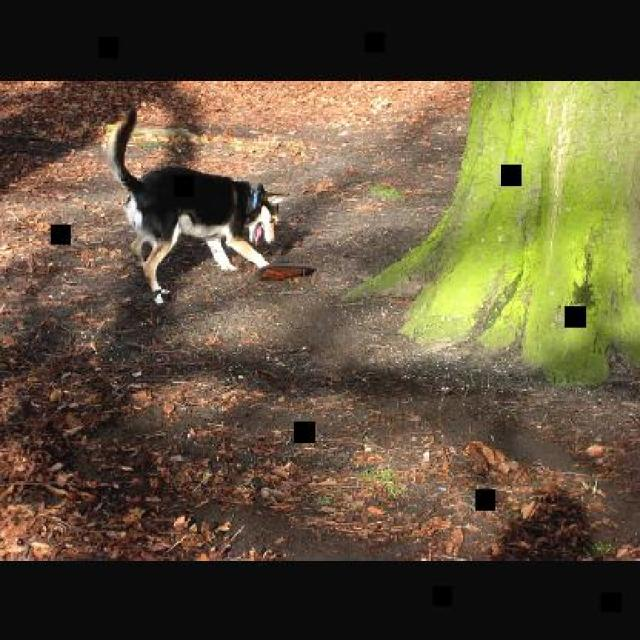unauthorized: (106, 106, 285, 305)
